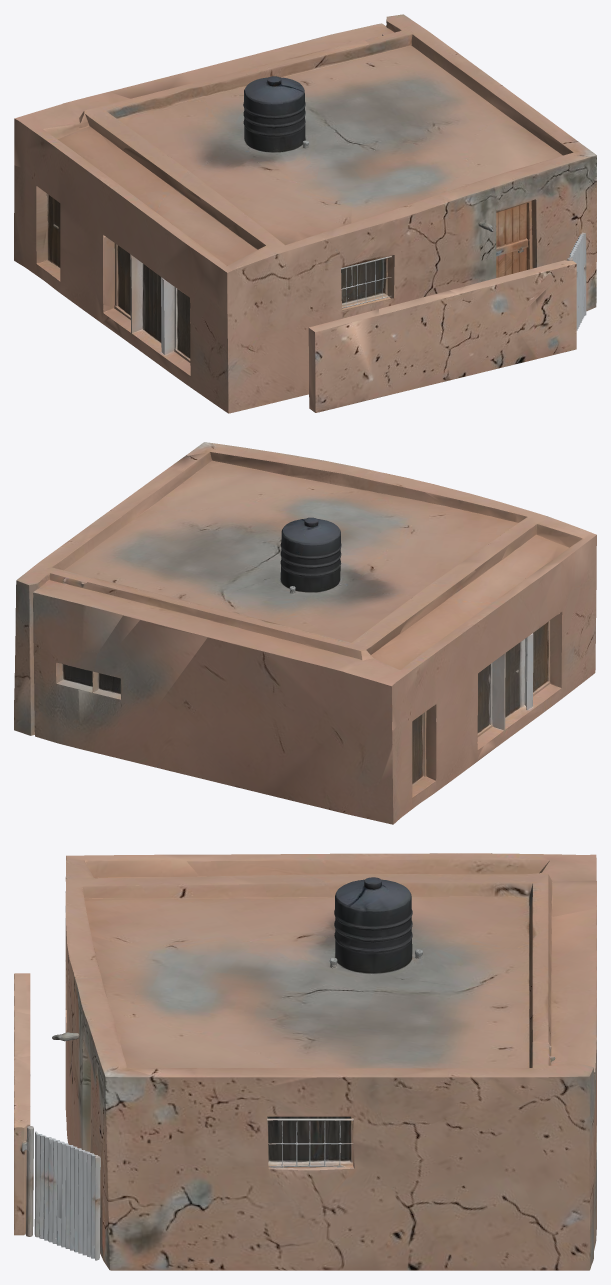
File: house_1f.glb
The picture shows the model from 3 angles, top to bottom: view 1: azimuth 30°, elevation 25°; view 2: azimuth 150°, elevation 25°; view 3: azimuth 270°, elevation 25°; orthographic projection. The views are drawn at different scales.
Visible parts, largest first — view 1: house_1f; view 2: house_1f; view 3: house_1f.
Part boxes in pixels (bbox=[...]): house_1f: bbox=[14, 14, 596, 413]; house_1f: bbox=[14, 442, 596, 824]; house_1f: bbox=[14, 853, 596, 1270].
Bounding box in the file's own units: 9.68 × 4.87 × 10.
Materials: 1 (1 with a texture image).
